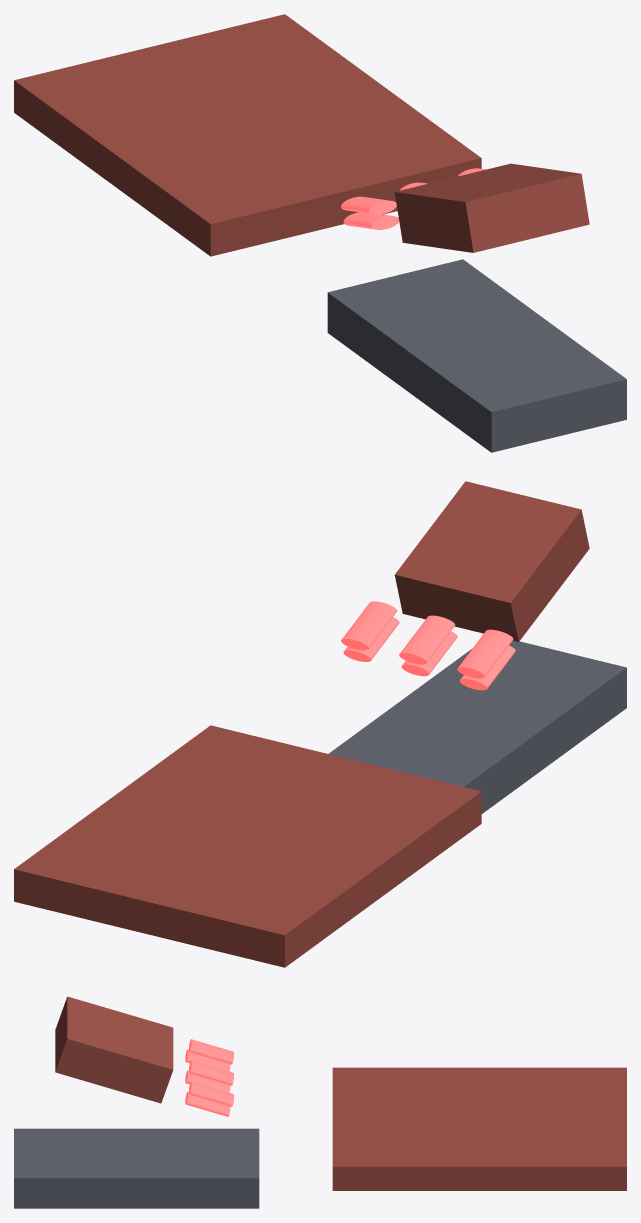
The model's file is SU_ZarevoMLRS_LOD2.glb.
3 views of the same model, one above another, from view 1: azimuth 30°, elevation 25°; view 2: azimuth 150°, elevation 25°; view 3: azimuth 270°, elevation 25° (orthographic). The views are drawn at different scales.
Visible parts, largest first — view 1: Cube.001, Cube, Cube.002, Cylinder, Cylinder.001; view 2: Cube.001, Cube, Cube.002, Cylinder, Cylinder.004, Cylinder.002, Cylinder.003, Cylinder.001, Cylinder.005; view 3: Cube.001, Cube, Cube.002, Cylinder, Cylinder.002, Cylinder.004, Cylinder.005, Cylinder.001, Cylinder.003.
Part boxes in pixels (bbox=[...]): Cube.001: bbox=[14, 14, 481, 256]; Cube: bbox=[327, 259, 626, 452]; Cube.002: bbox=[394, 163, 589, 252]; Cylinder: bbox=[341, 196, 396, 214]; Cylinder.001: bbox=[343, 212, 399, 229]; Cube.001: bbox=[14, 725, 481, 967]; Cube: bbox=[328, 641, 626, 813]; Cube.002: bbox=[394, 481, 589, 641]; Cylinder: bbox=[457, 629, 513, 678]; Cylinder.004: bbox=[341, 601, 397, 650]; Cylinder.002: bbox=[399, 615, 455, 664]; Cylinder.003: bbox=[401, 631, 457, 676]; Cylinder.001: bbox=[459, 645, 515, 690]; Cylinder.005: bbox=[343, 617, 399, 661]; Cube.001: bbox=[332, 1067, 626, 1190]; Cube: bbox=[14, 1128, 259, 1208]; Cube.002: bbox=[55, 996, 173, 1103]; Cylinder: bbox=[189, 1039, 233, 1064]; Cylinder.002: bbox=[189, 1060, 233, 1085]; Cylinder.004: bbox=[189, 1081, 233, 1106]; Cylinder.005: bbox=[185, 1091, 230, 1116]; Cylinder.001: bbox=[185, 1049, 230, 1071]; Cylinder.003: bbox=[185, 1070, 230, 1092].
Size of what is drawn, in the model's own units: 4.2 by 3.29 by 11.
